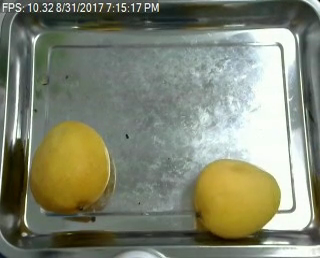Mango: (30, 120, 111, 218), (186, 158, 281, 241)
